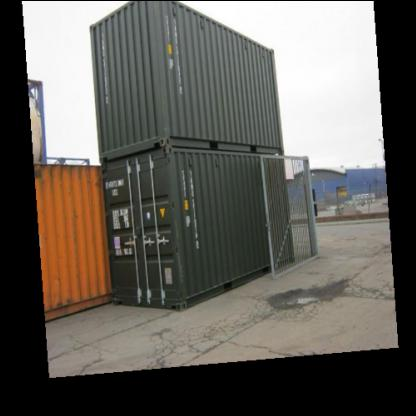Damage: (169, 203, 187, 286), (154, 62, 170, 135), (42, 162, 96, 180), (44, 292, 79, 310)
